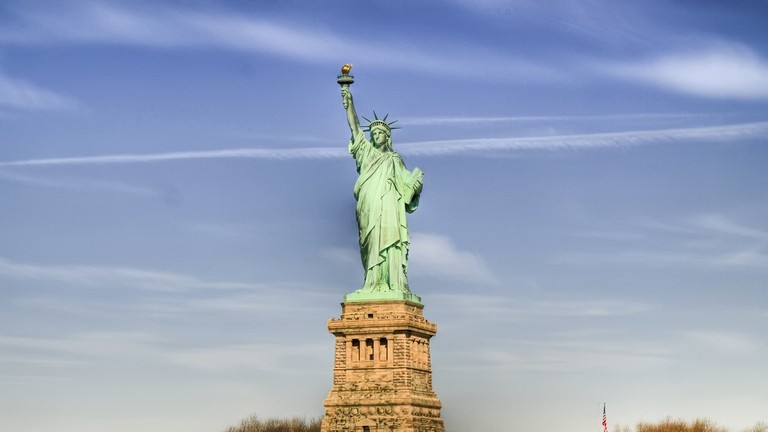person-like: (332, 59, 431, 301)
